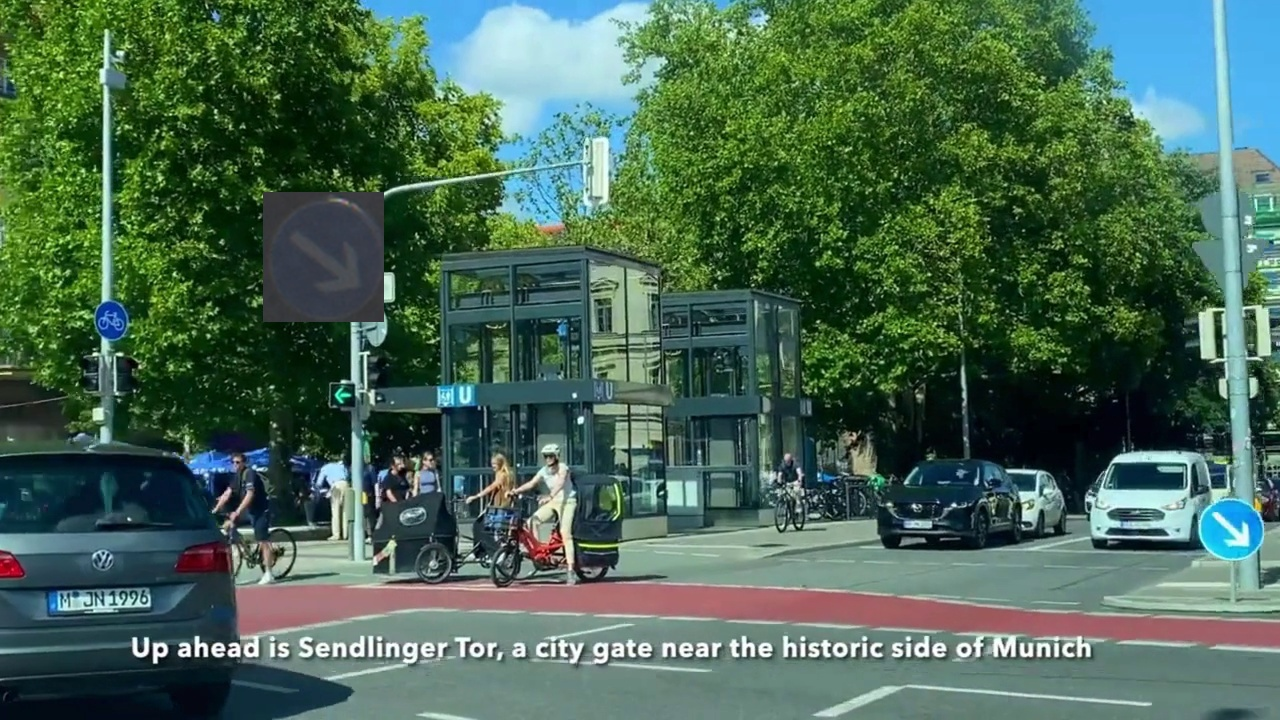Keep right: (263, 192, 384, 322)
